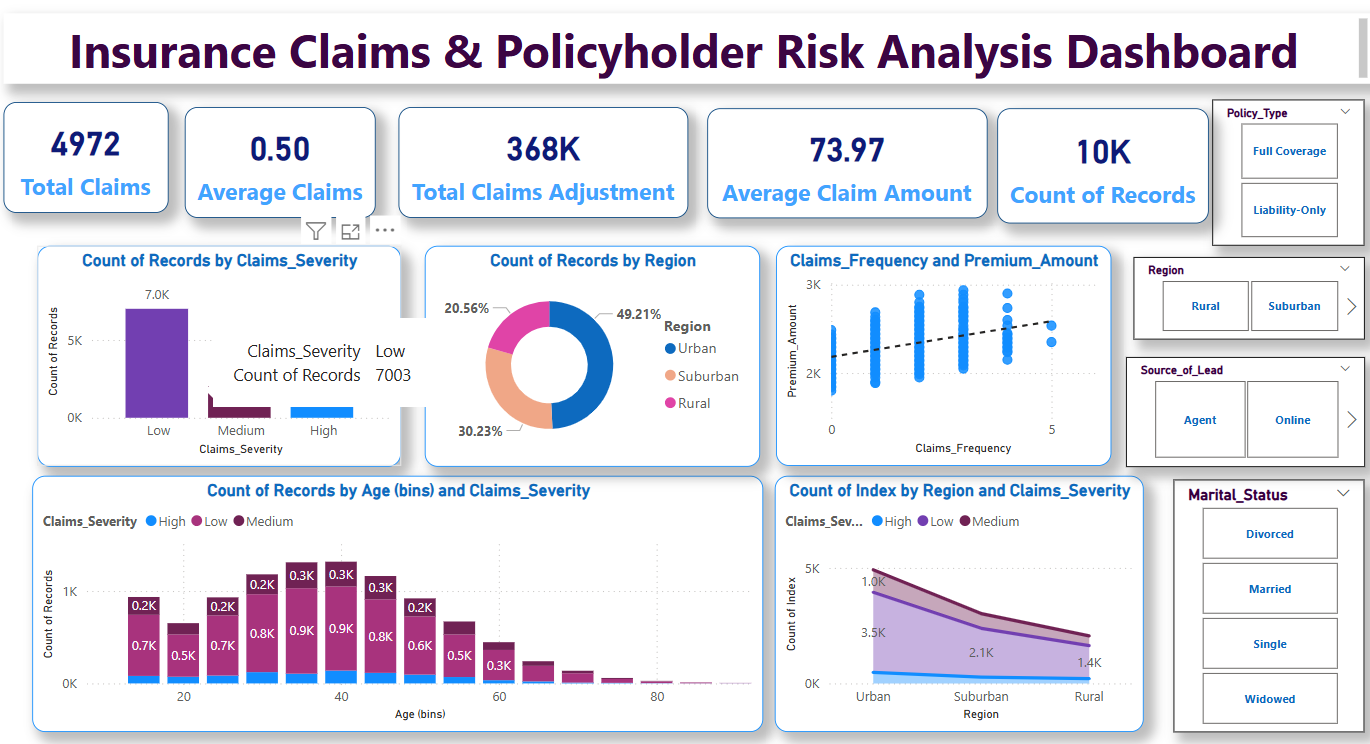

What the dashboard file says about the page in this screenshot:
{"tool":"powerbi","page":{"name":"Insurance Claims & Policyholder Risk Analysis Dashboard","canvas":[1280,720],"ordinal":0},"visuals":[{"type":"textbox","box":[7.8,0,1272.2,468.3],"z":0},{"type":"textbox","box":[7.6,0,1273.2,718.3],"z":1000},{"type":"textbox","box":[6.9,38.4,1273.4,65.9],"z":2000},{"type":"card","fields":{"Values":["Sum(synthetic_insurance_data.Claims_Frequency)"]},"box":[7,120.9,153.5,103.5],"z":3000},{"type":"card","fields":{"Values":["Sum(synthetic_insurance_data.Claims_Adjustment)"]},"box":[374.4,125.6,269.8,103.5],"z":4000},{"type":"card","fields":{"Values":["Avg(synthetic_insurance_data.Claims_Frequency)"]},"box":[175.6,125.6,177.9,103.5],"z":5000},{"type":"columnChart","fields":{"Category":["synthetic_insurance_data.Claims_Severity"],"Y":["CountNonNull(synthetic_insurance_data.Index)"]},"box":[38,254.6,338.2,205.2],"z":6000},{"type":"columnChart","fields":{"Category":["synthetic_insurance_data.Age (bins)"],"Y":["CountNonNull(synthetic_insurance_data.Index)"],"Series":["synthetic_insurance_data.Claims_Severity"]},"box":[33.7,468.6,680.2,238.4],"z":7000},{"type":"donutChart","fields":{"Y":["CountNonNull(synthetic_insurance_data.Index)"],"Category":["synthetic_insurance_data.Region"]},"box":[399.1,254.6,311.6,205.2],"z":8000},{"type":"stackedAreaChart","fields":{"Category":["synthetic_insurance_data.Region"],"Y":["CountNonNull(synthetic_insurance_data.Index)"],"Series":["synthetic_insurance_data.Claims_Severity"]},"box":[724.4,468.6,343,238.4],"z":9000},{"type":"card","fields":{"Values":["synthetic_insurance_data.Average Claim Amoount"]},"box":[661.6,126.7,260.5,102.3],"z":10000},{"type":"scatterChart","fields":{"X":["synthetic_insurance_data.Claims_Frequency"],"Y":["synthetic_insurance_data.Premium_Amount"]},"box":[725.6,254.7,311.6,204.7],"z":11000},{"type":"slicer","fields":{"Values":["synthetic_insurance_data.Policy_Type"]},"box":[1131.4,118.6,141.9,136],"z":12000},{"type":"card","fields":{"Values":["CountNonNull(synthetic_insurance_data.Index)"]},"box":[931.8,127.3,196.9,106.9],"z":13000},{"type":"slicer","fields":{"Values":["synthetic_insurance_data.Region"]},"box":[1057.9,265.4,214.9,76.8],"z":13001},{"type":"slicer","fields":{"Values":["synthetic_insurance_data.Marital_Status"]},"box":[1095.1,471.9,177.7,235.3],"z":13002},{"type":"slicer","fields":{"Values":["synthetic_insurance_data.Source_of_Lead"]},"box":[1050.7,357.8,222.1,102.1],"z":13003}]}

Visuals, with their boxes on the page's 1280x720 design canvas (x1, y1, x2, y2). These are canvas units, not pixel positions in the 1370x744 screenshot, which may show the page scaled, cropped or inside an application window:
textbox: locate(8, 0, 1280, 468)
textbox: locate(8, 0, 1281, 718)
textbox: locate(7, 38, 1280, 104)
card - Sum(synthetic_insurance_data.Claims_Frequency): locate(7, 121, 160, 224)
card - Sum(synthetic_insurance_data.Claims_Adjustment): locate(374, 126, 644, 229)
card - Avg(synthetic_insurance_data.Claims_Frequency): locate(176, 126, 354, 229)
columnChart - synthetic_insurance_data.Claims_Severity x CountNonNull(synthetic_insurance_data.Index): locate(38, 255, 376, 460)
columnChart - synthetic_insurance_data.Age (bins) x CountNonNull(synthetic_insurance_data.Index): locate(34, 469, 714, 707)
donutChart - CountNonNull(synthetic_insurance_data.Index) x synthetic_insurance_data.Region: locate(399, 255, 711, 460)
stackedAreaChart - synthetic_insurance_data.Region x CountNonNull(synthetic_insurance_data.Index): locate(724, 469, 1067, 707)
card - synthetic_insurance_data.Average Claim Amoount: locate(662, 127, 922, 229)
scatterChart - synthetic_insurance_data.Claims_Frequency x synthetic_insurance_data.Premium_Amount: locate(726, 255, 1037, 459)
slicer - synthetic_insurance_data.Policy_Type: locate(1131, 119, 1273, 255)
card - CountNonNull(synthetic_insurance_data.Index): locate(932, 127, 1129, 234)
slicer - synthetic_insurance_data.Region: locate(1058, 265, 1273, 342)
slicer - synthetic_insurance_data.Marital_Status: locate(1095, 472, 1273, 707)
slicer - synthetic_insurance_data.Source_of_Lead: locate(1051, 358, 1273, 460)
